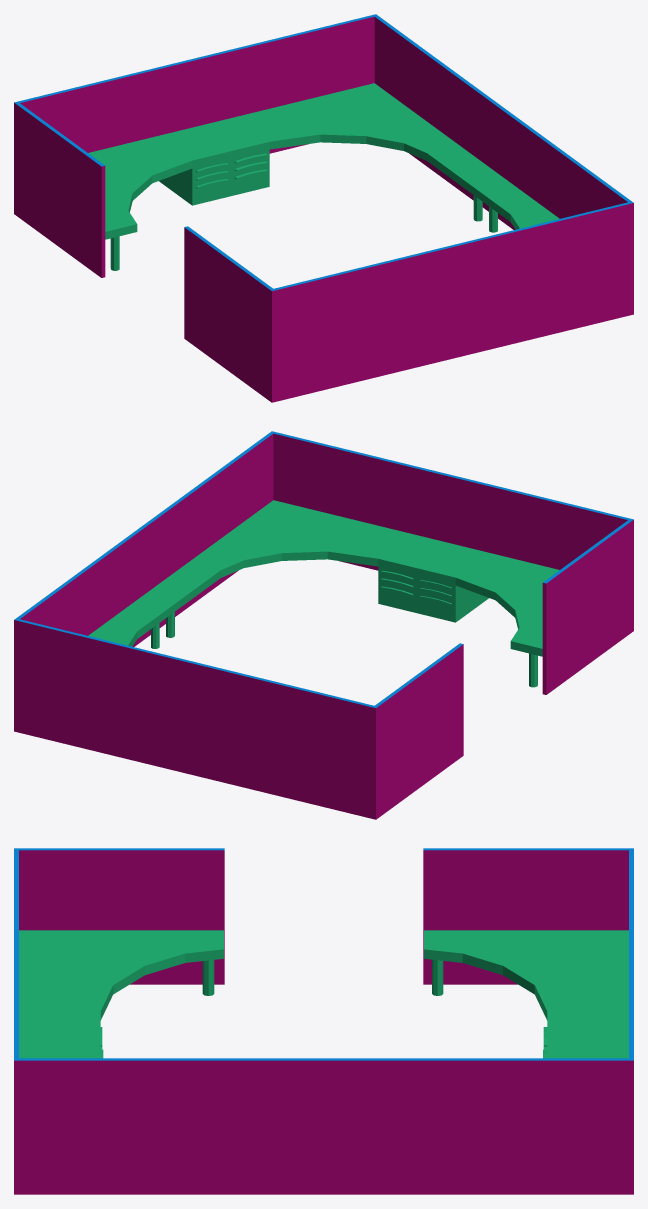
File: BuiltQuadColider.fbx
3 views of the same model, one above another, from view 1: azimuth 30°, elevation 25°; view 2: azimuth 150°, elevation 25°; view 3: azimuth 270°, elevation 25° (orthographic). The views are drawn at different scales.
Visible parts, largest first — view 1: Floor1; view 2: Floor1; view 3: Floor1.
Boxes of the visible parts, <box> form: Floor1: <box>14,14,633,402</box>; Floor1: <box>14,431,633,819</box>; Floor1: <box>14,848,633,1194</box>.
Size of the model in its own units: 531 by 156 by 655.
